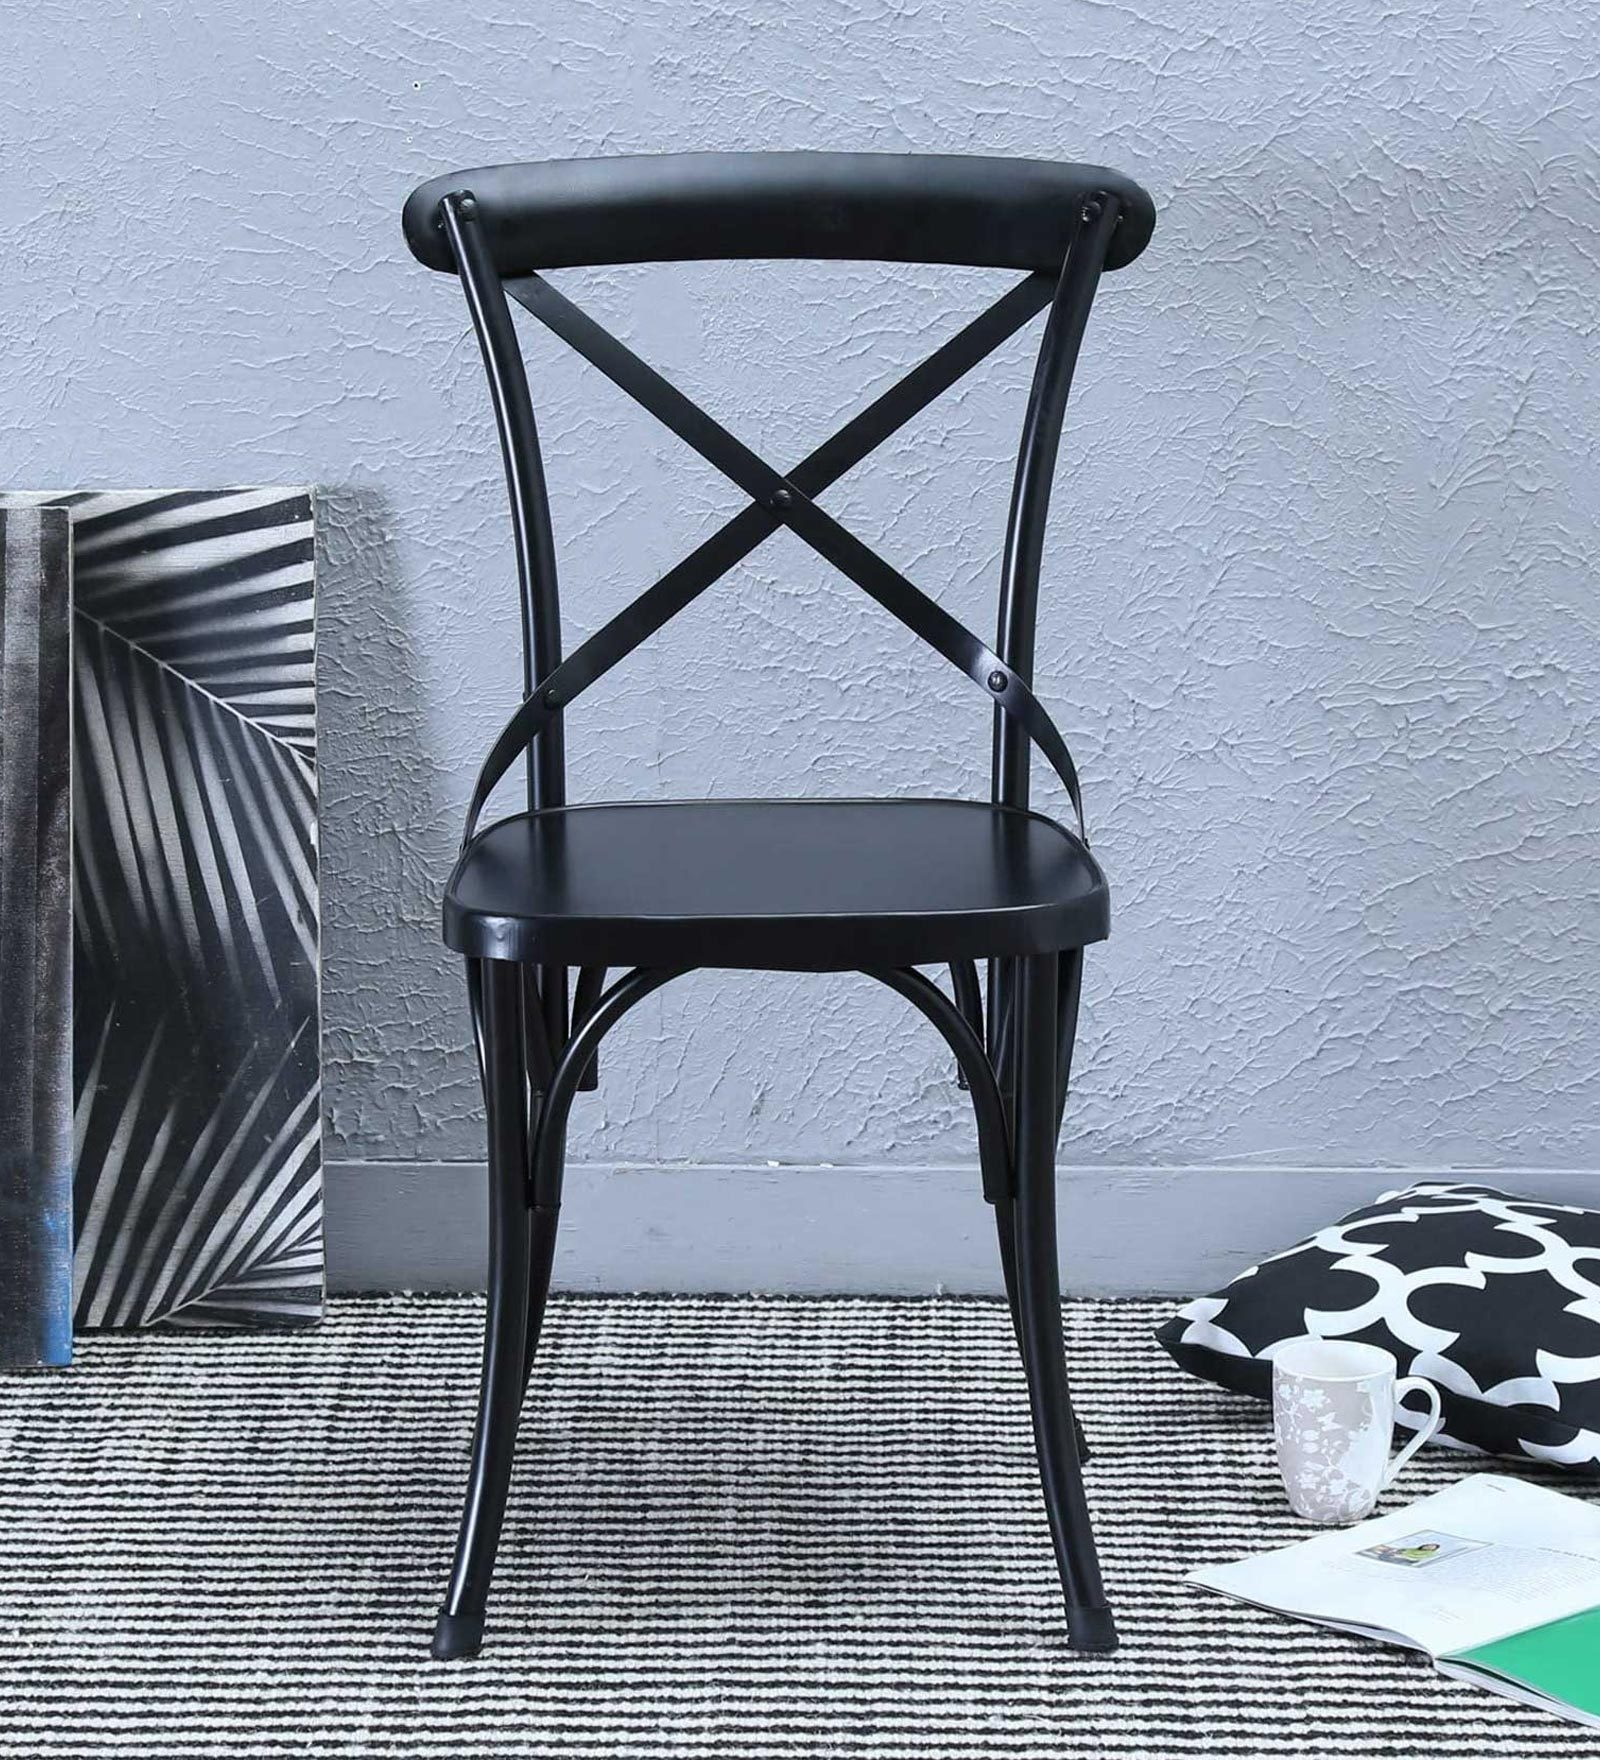Fabian Metal Chair in Black Color by Bohemiana: (369, 133, 1182, 1689)
